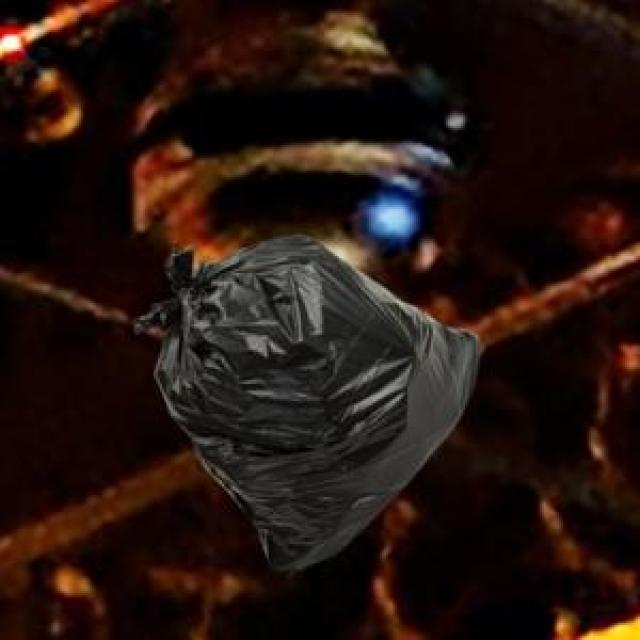Vinyl: (145, 236, 478, 569)
